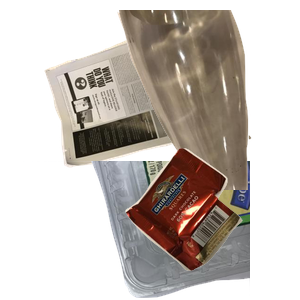glass: (115, 10, 300, 190)
paper: (42, 21, 249, 181)
plastic: (23, 161, 263, 300)
trash: (123, 145, 300, 300)
